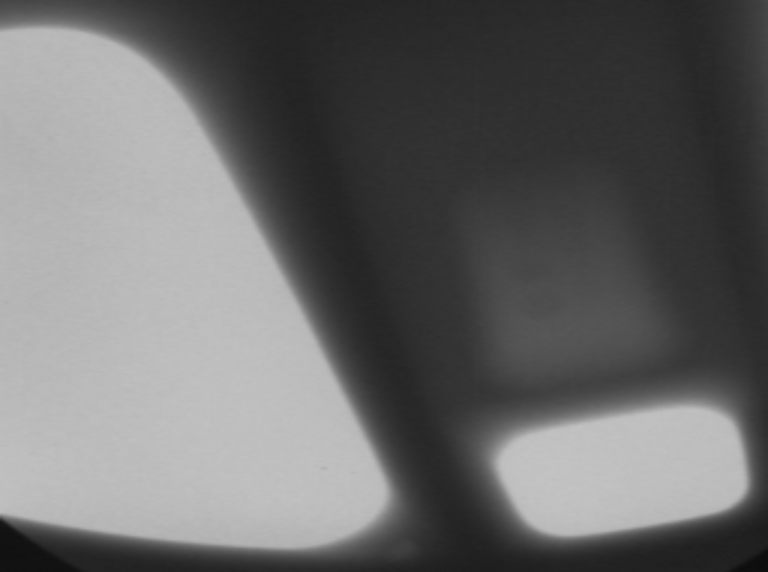defect: (366, 521, 447, 568)
